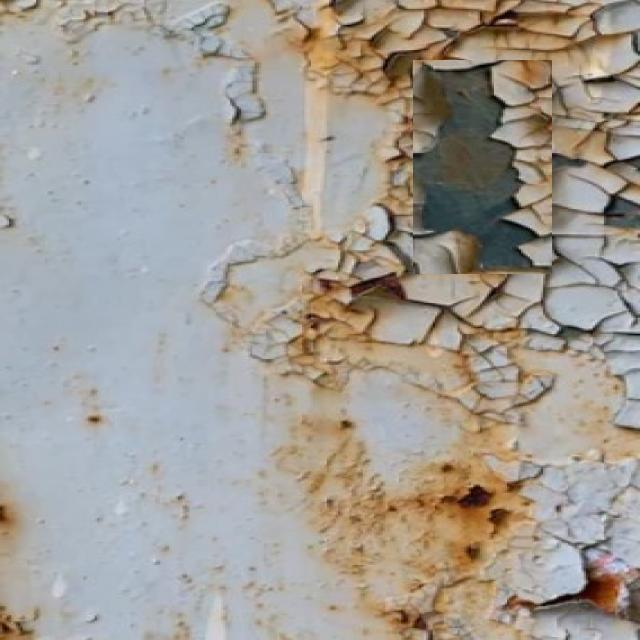Corrosion: (277, 417, 535, 640), (415, 66, 534, 268), (433, 482, 512, 570), (347, 243, 406, 302), (582, 575, 630, 615), (607, 197, 640, 228), (413, 615, 431, 640)
